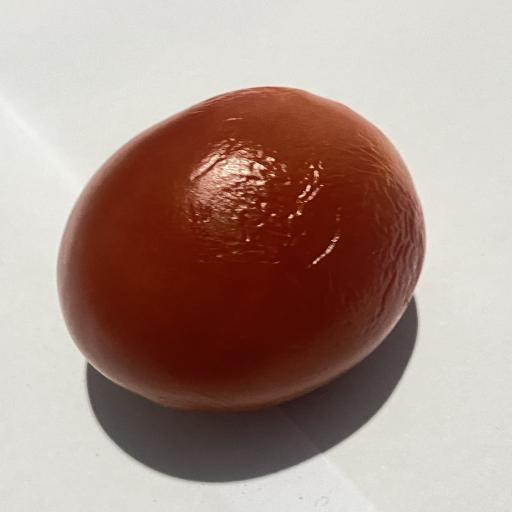spoiled: (58, 87, 425, 411)
